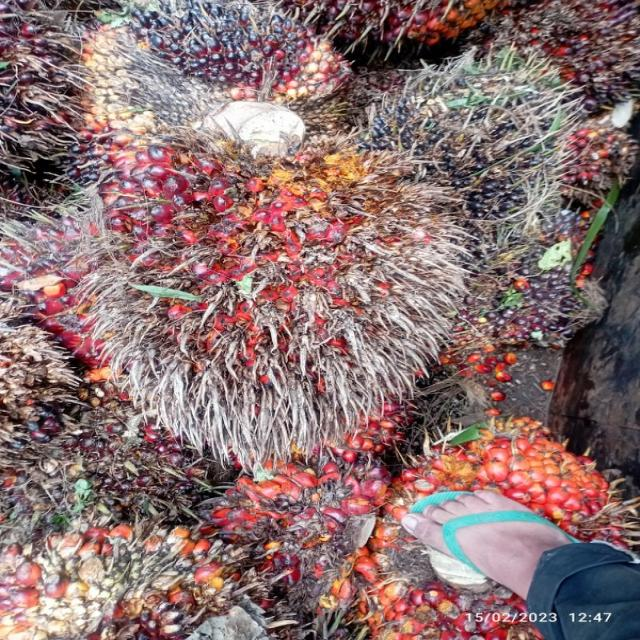fraksi 00: (337, 19, 580, 241), (73, 0, 328, 161)
fraksi 4: (50, 112, 500, 474)
